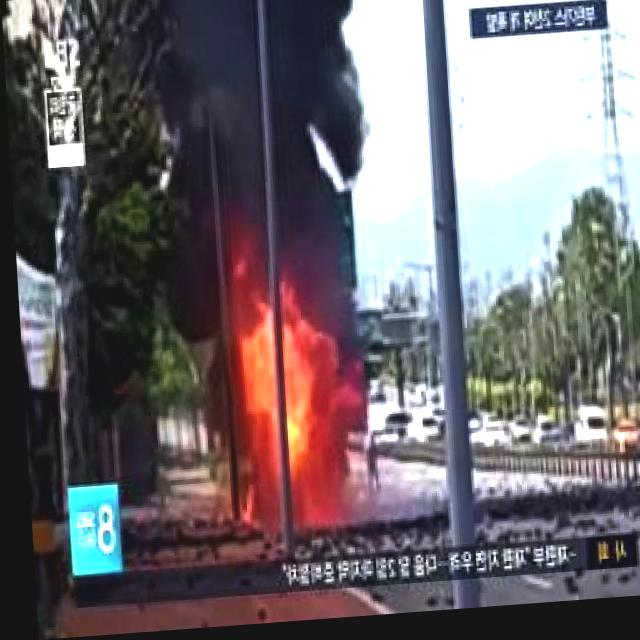helmet: (221, 332, 339, 547)
no_helmet: (128, 0, 378, 281)
